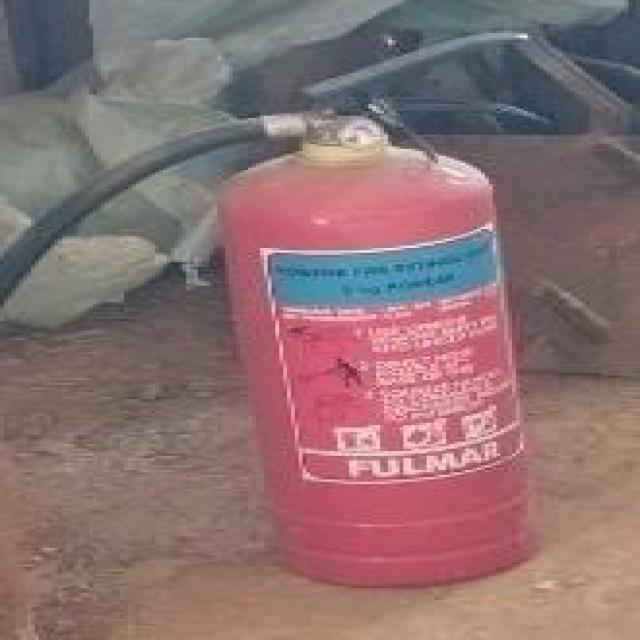fire_extinguisher: (0, 26, 551, 590)
